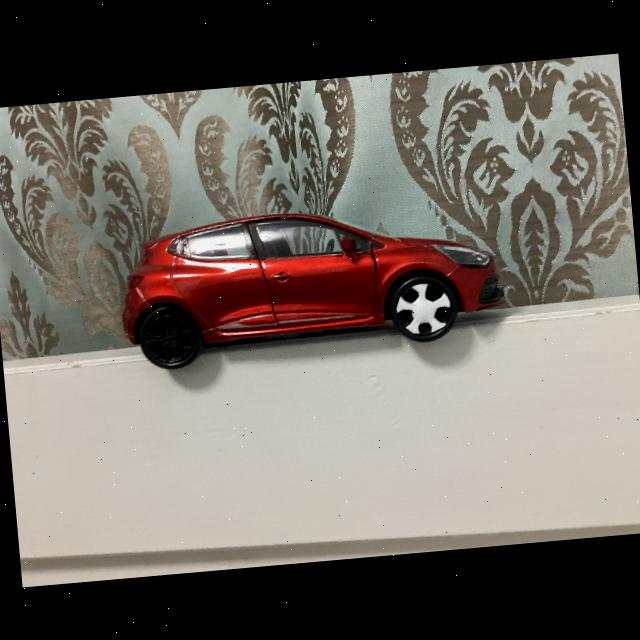Dogru_Jant: (142, 310, 194, 364)
Yanlis_Jant: (394, 280, 454, 338)
